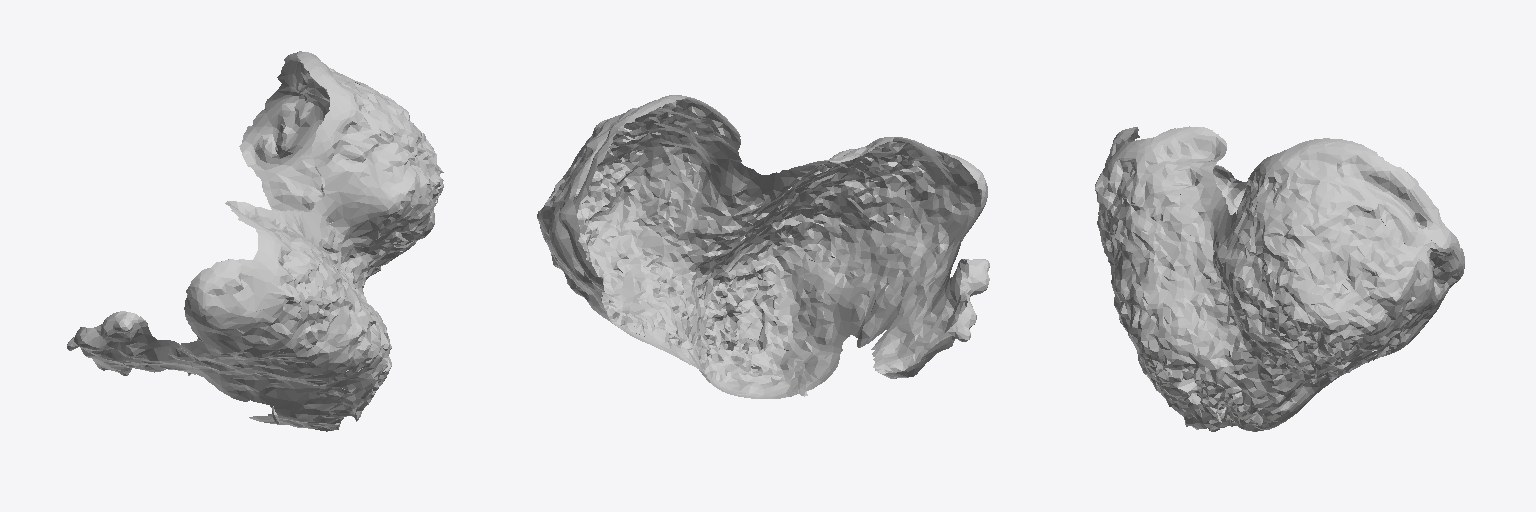
Rendered from UHMesh56-67.obj.
3 views of the same model, side by side, from view 1: azimuth 30°, elevation 25°; view 2: azimuth 150°, elevation 25°; view 3: azimuth 270°, elevation 25° (orthographic).
Size of the model in its own units: 0.1095 by 0.0824 by 0.0901.